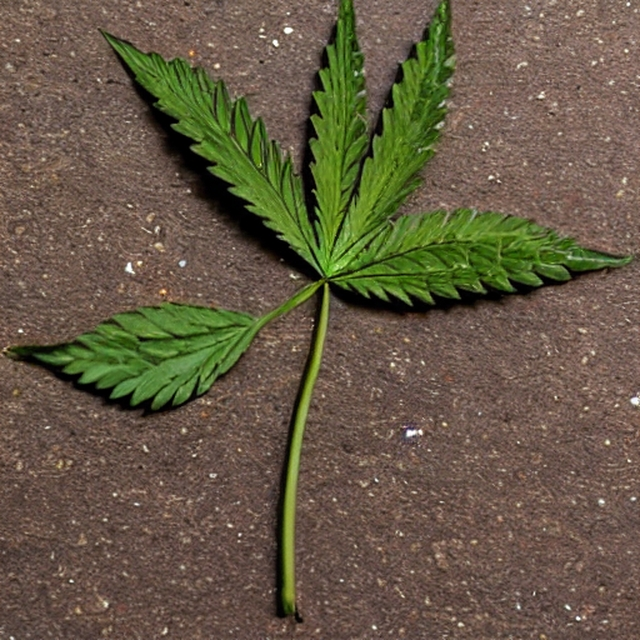Marijuana Leaf: (2, 0, 633, 620)
